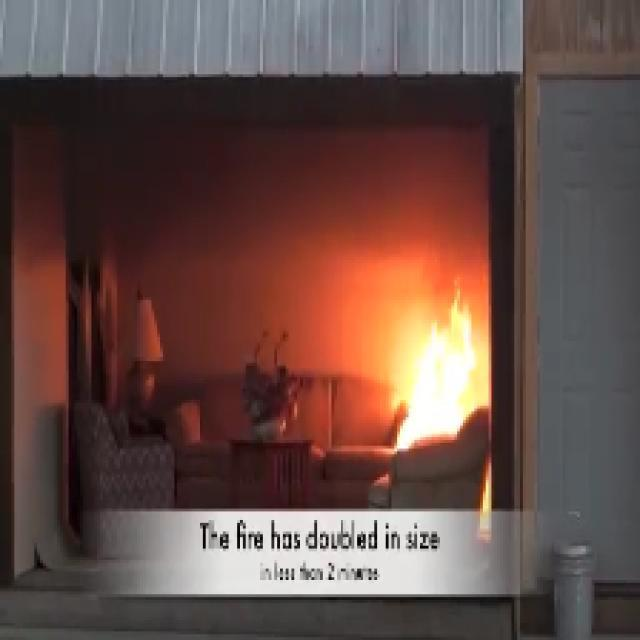Fire: (398, 302, 474, 444)
